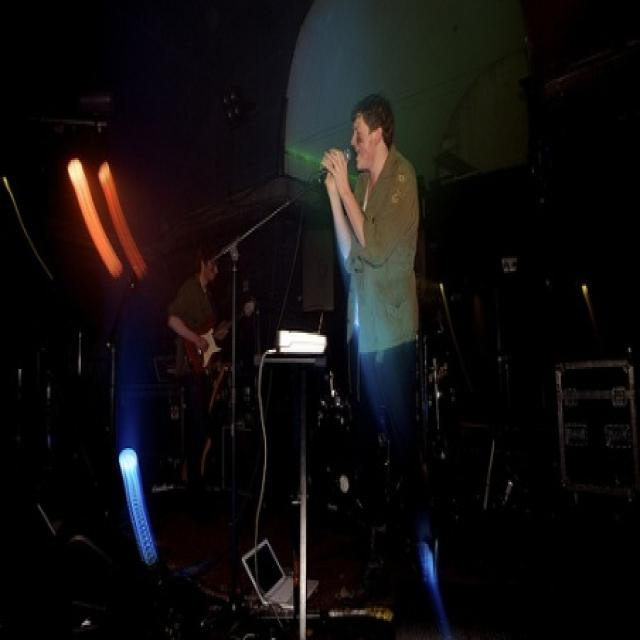People: (318, 52, 430, 505), (182, 232, 245, 471)
